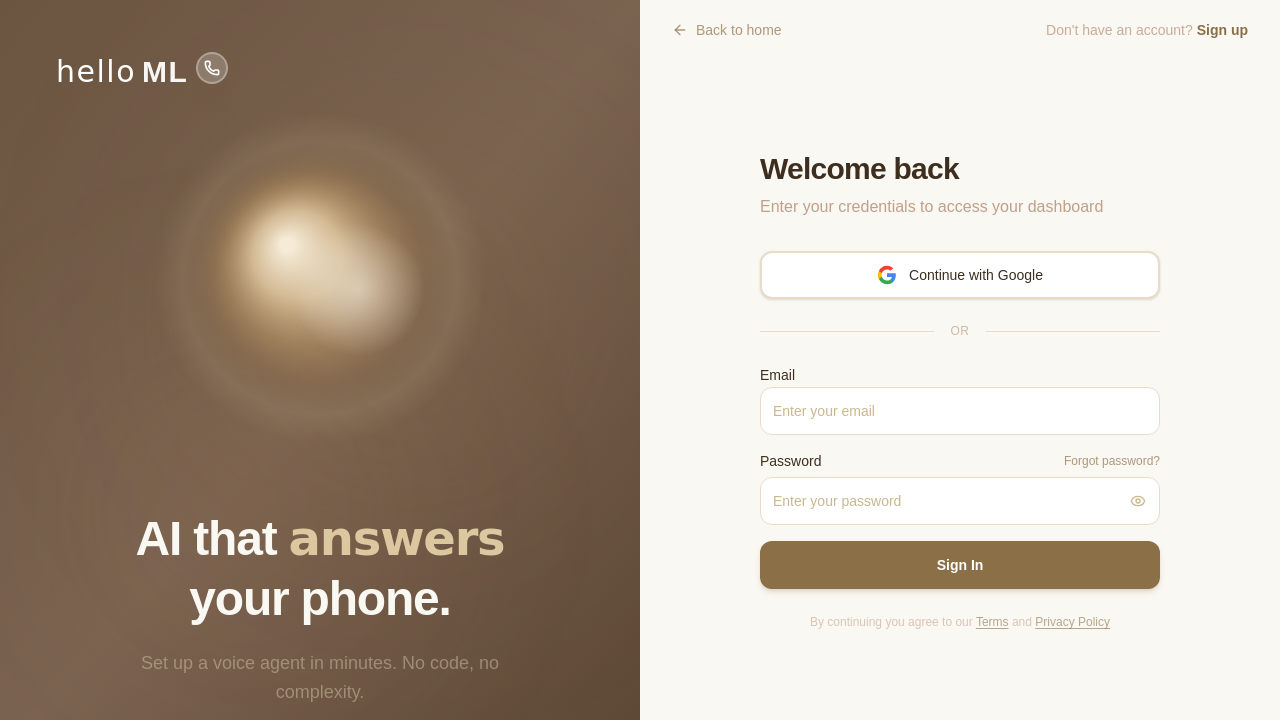
Test: Auth Page › switches to signup mode
Click the button "Sign up" at [1222, 30], box [1197,20,1248,40]
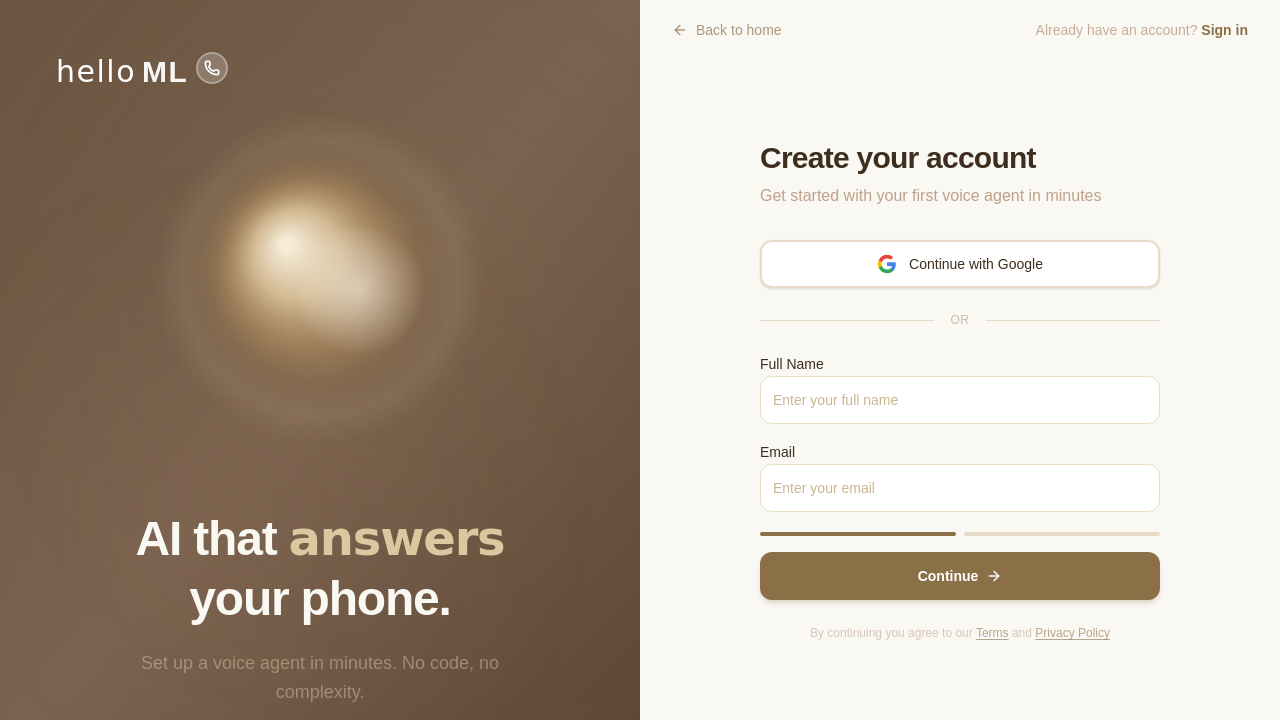
expect the heading "Create your account" is shown: met, box [760,141,1036,174]
